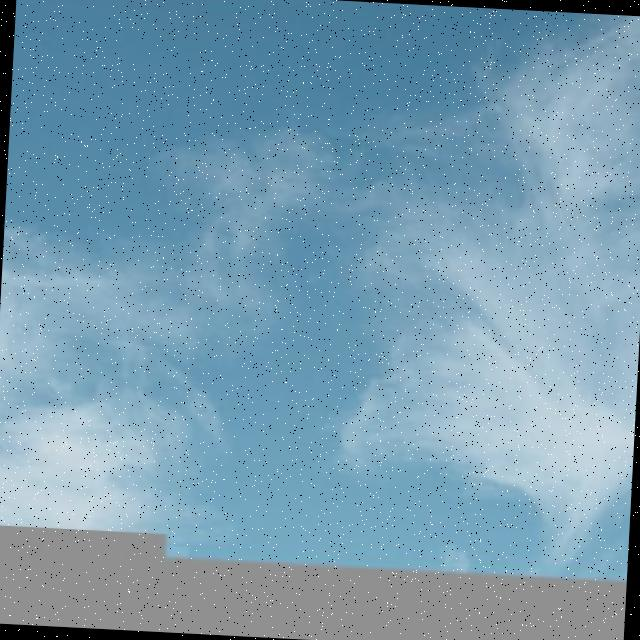Cc: (309, 46, 640, 558)
